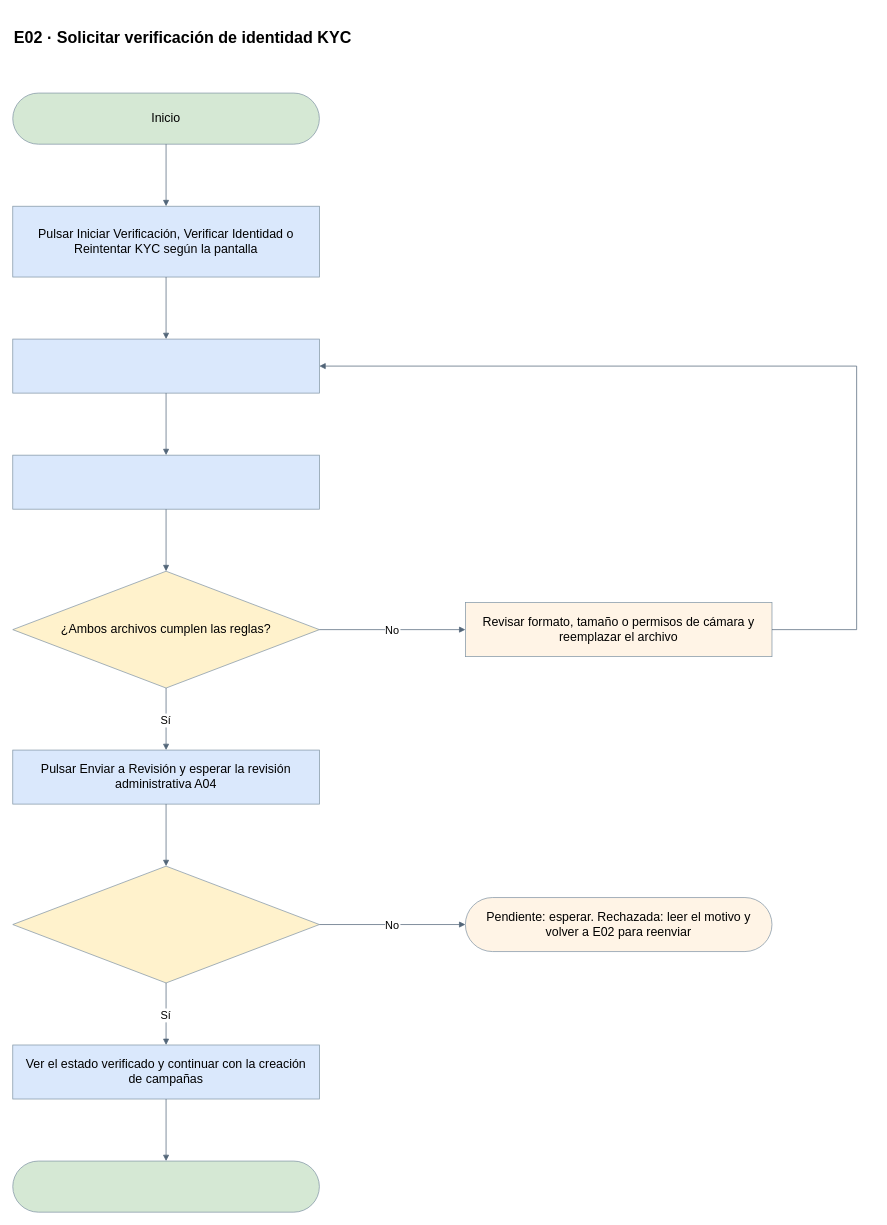
Some shapes in this 887 by 1225 pixel diagram are drawn without their labels. The centre of each missing label's shape, as x and y in pixels:
"Fin" belongs at pixel 165 1186.
"Paso 1: adjuntar documento oficial legible en formato permitido" belongs at pixel 165 365.
"Paso 2: tomar una selfie con la cámara o adjuntar selfie/video con documento" belongs at pixel 165 481.
"¿La identidad fue aprobada?" belongs at pixel 165 924.
